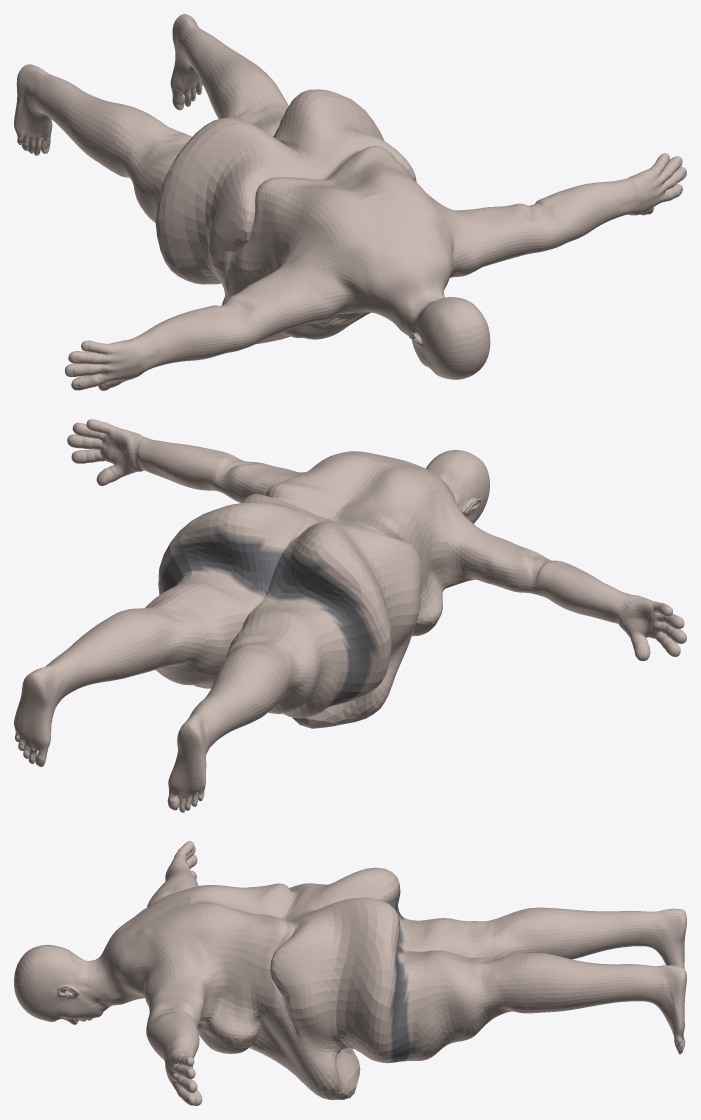
3 views of the same model, one above another, from view 1: azimuth 30°, elevation 25°; view 2: azimuth 150°, elevation 25°; view 3: azimuth 270°, elevation 25° (orthographic). The views are drawn at different scales.
Visible parts, largest first — view 1: geometry_0; view 2: geometry_0; view 3: geometry_0.
Boxes of the visible parts, x1,y1,x2,y2 form: geometry_0: (14, 14, 686, 390); geometry_0: (14, 419, 686, 812); geometry_0: (14, 841, 686, 1105).
Size of the model in its own units: 1.5 by 0.5084 by 1.54.
